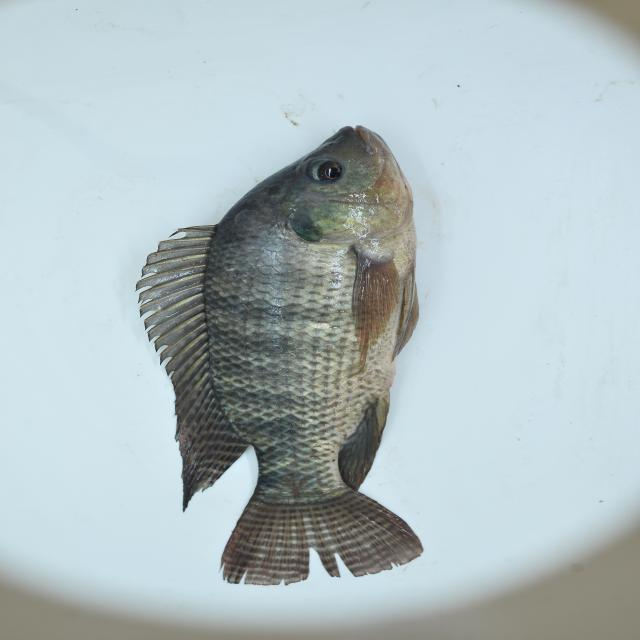Healthy Fish: (131, 119, 423, 596)
